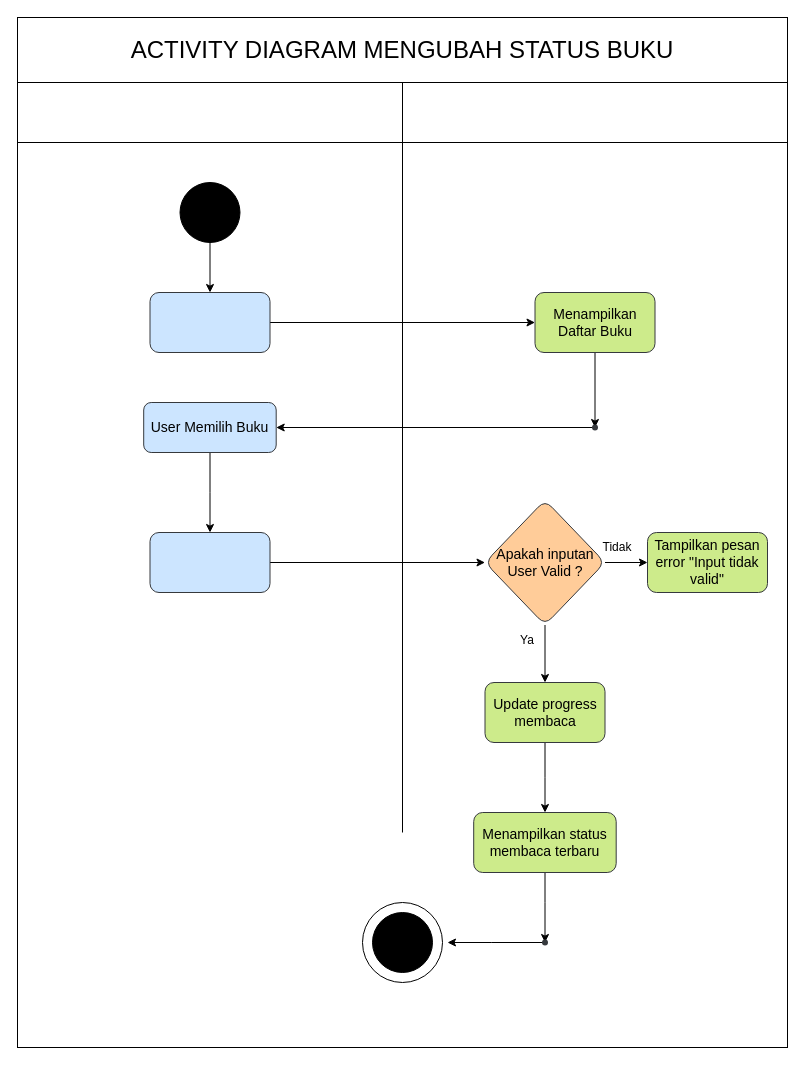
Some shapes in this 805 by 1065 pixel diagram are drawn without their labels. The shapes that lost their labels are listed below. From the top down, each one's box as (x1, y1, x2, y2) in pixels, then its label:
(16, 82, 402, 142): User
(402, 82, 788, 142): Sistem
(149, 292, 270, 352): Membuka menu "Koleksi Buku"
(149, 532, 270, 592): Ubah progress halaman buku
